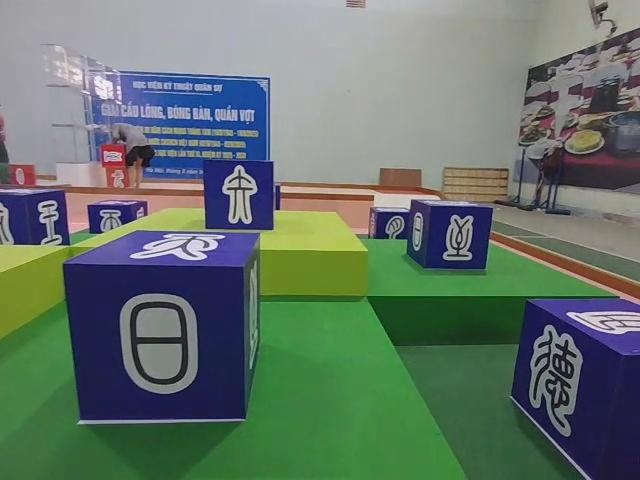R2 Fake Blue: (62, 229, 263, 423), (511, 294, 640, 480), (405, 198, 492, 270), (202, 161, 277, 235), (0, 187, 68, 247), (89, 199, 150, 235), (366, 207, 410, 240)
